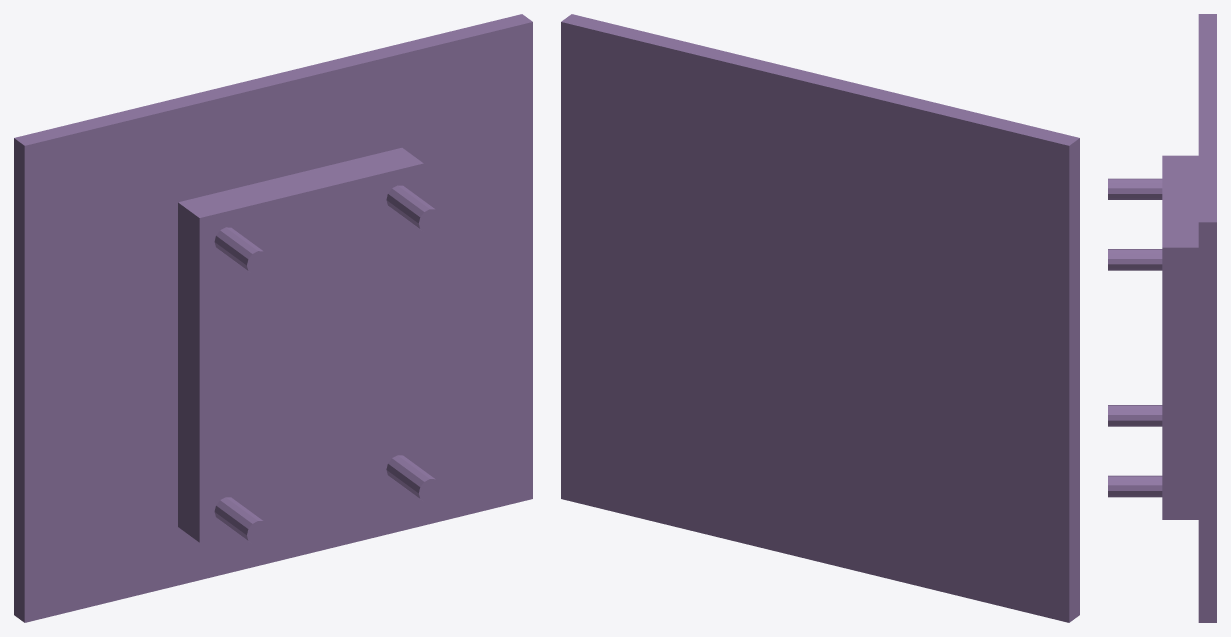
The model's file is imu_link.glb.
3 renders of one model, left to right at view 1: azimuth 30°, elevation 25°; view 2: azimuth 150°, elevation 25°; view 3: azimuth 270°, elevation 25°, orthographic. The views are drawn at different scales.
Size of the model in its own units: 0.136 by 0.122 by 0.03.
